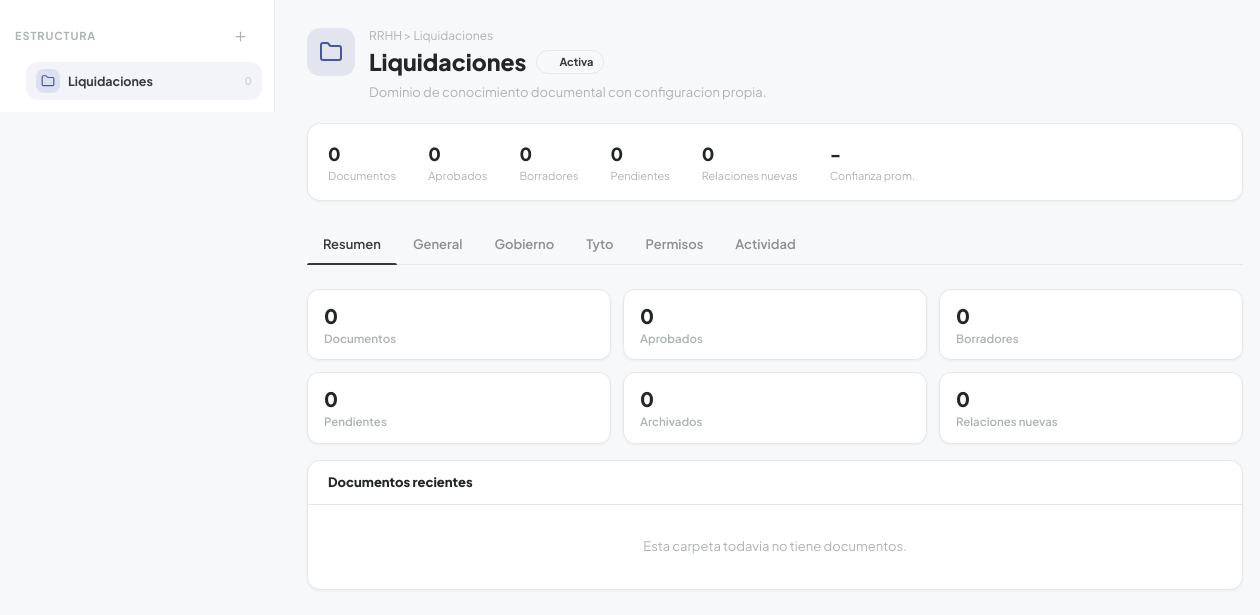
Test: PermissionsTab › muestra los roles heredados en lectura y el origen
Click the tab "Permisos" at (674, 245), box 630,225 -> 719,264
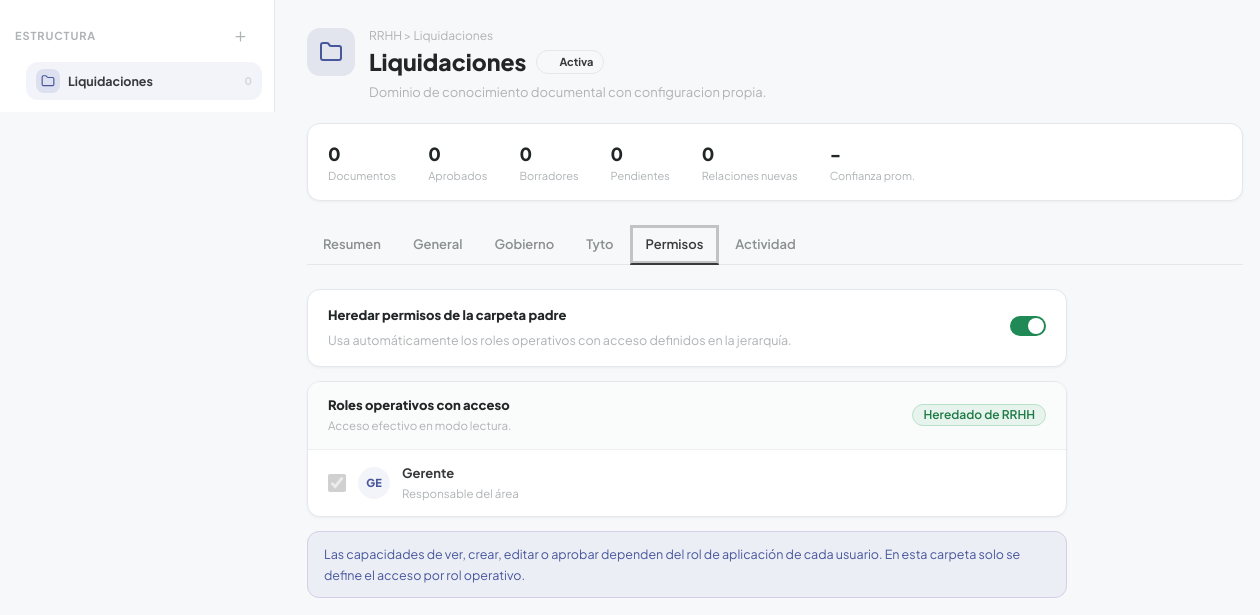
Check: the text "Gerente" is shown, box 402,464 -> 454,483
Check: the text "Heredado de RRHH" is shown, box 912,404 -> 1046,426
Check: the checkbox named "Acceso del rol Gerente" is checked, box 328,474 -> 346,492
